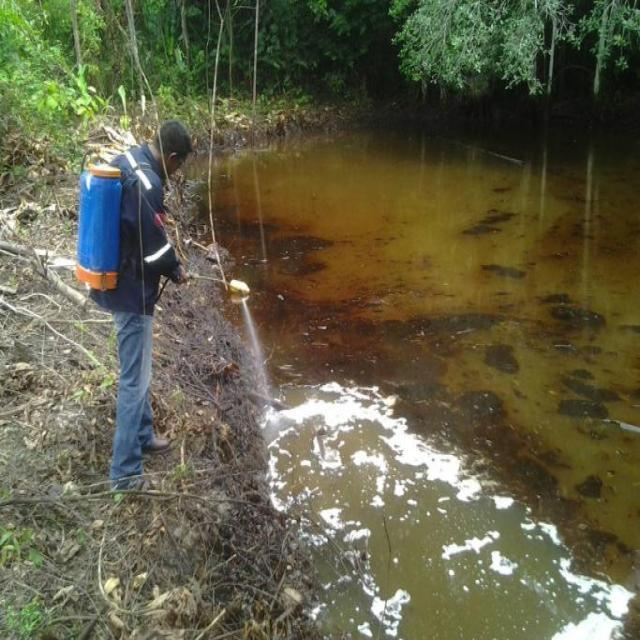flood: (176, 99, 640, 640)
